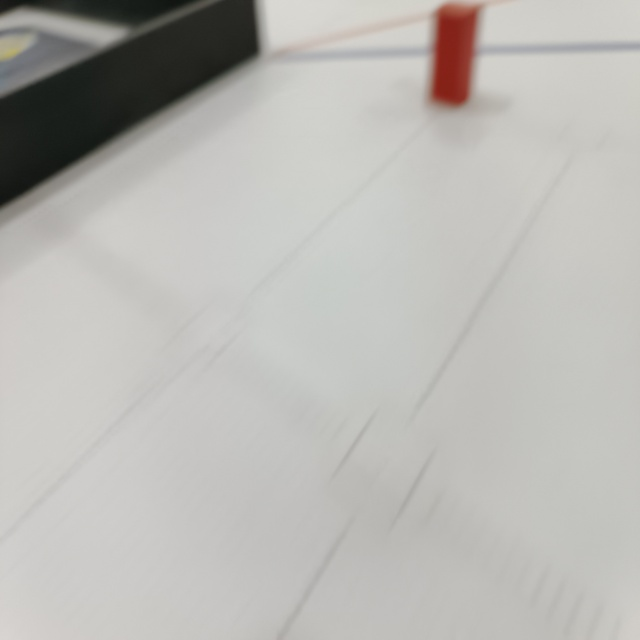blue line: (278, 40, 640, 57)
orange line: (272, 0, 508, 53)
red rectangular prism: (425, 0, 480, 106)
